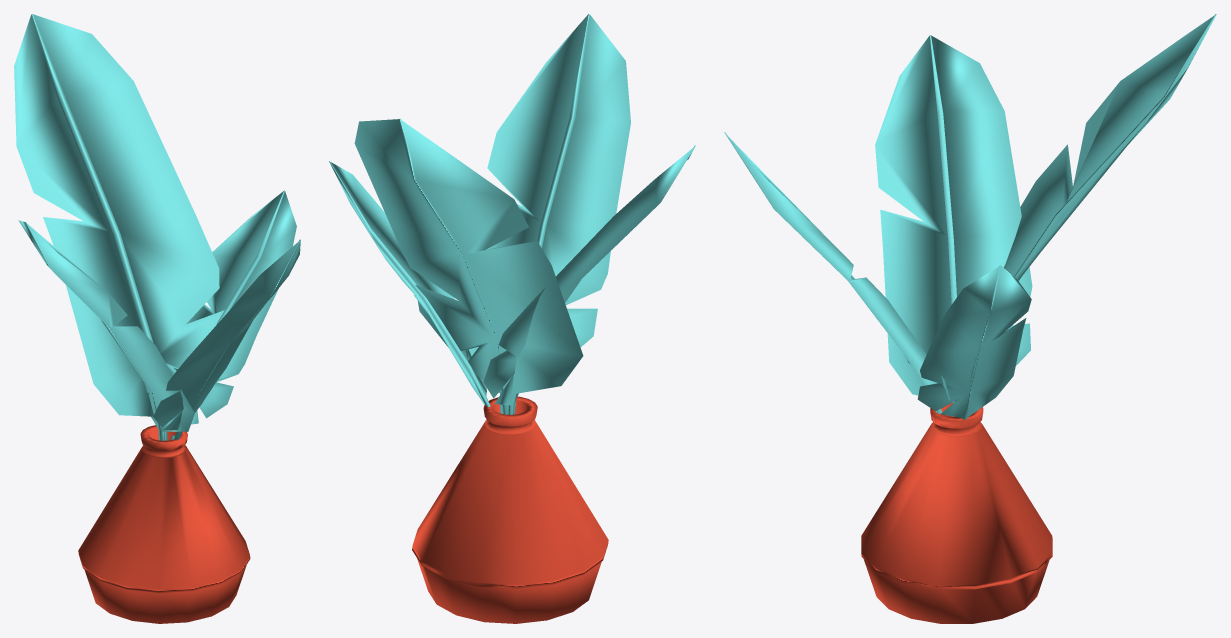
Rendered from Deko_vase_Blatter.fbx.
The picture shows the model from 3 angles, left to right: view 1: azimuth 30°, elevation 25°; view 2: azimuth 150°, elevation 25°; view 3: azimuth 270°, elevation 25°; orthographic projection. The views are drawn at different scales.
Visible parts, largest first — view 1: Plane.001; view 2: Plane.001; view 3: Plane.001.
Boxes of the visible parts, x1,y1,x2,y2 form: Plane.001: (14,14,300,623); Plane.001: (329,14,695,623); Plane.001: (724,14,1216,623).
Size of the model in its own units: 112 by 185 by 145.
